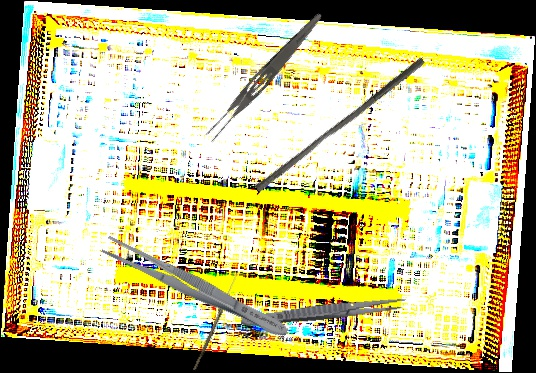Dressing Forceps: (99, 232, 293, 344), (202, 6, 326, 146), (240, 293, 407, 331)
Pusher: (254, 50, 426, 199)
Surgical Spoon: (192, 269, 241, 372)
